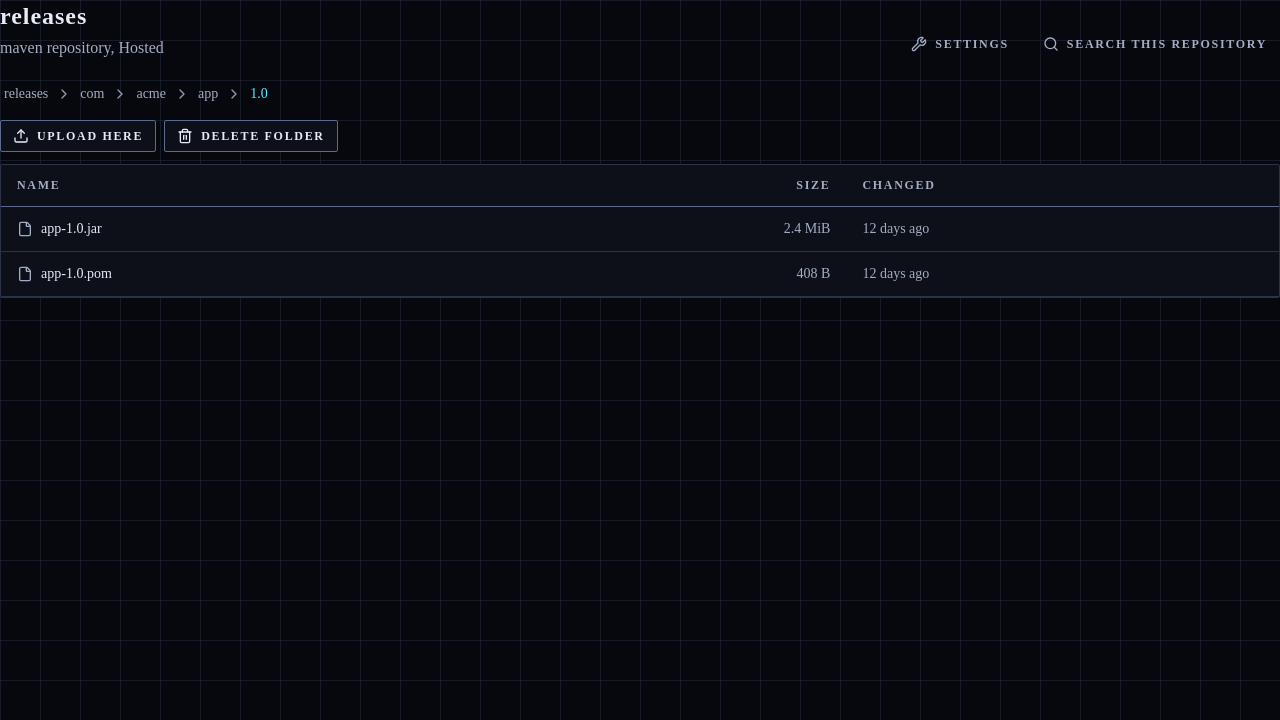
deleting › a folder says how many files the format kept, and stays where they are
Click the button "Delete folder" at (251, 136), box [164,120,338,152]
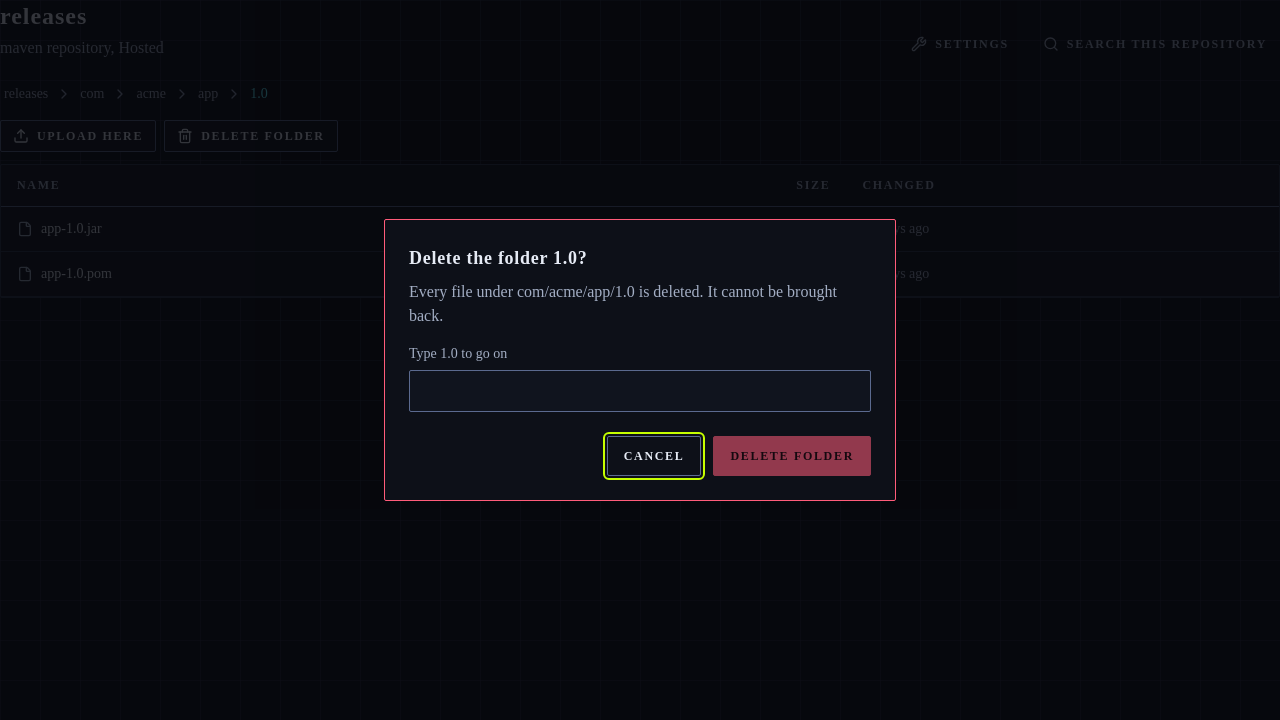
Type "1.0" into the field labelled "Type 1.0 to go on" at (640, 391), box [409,370,871,412]
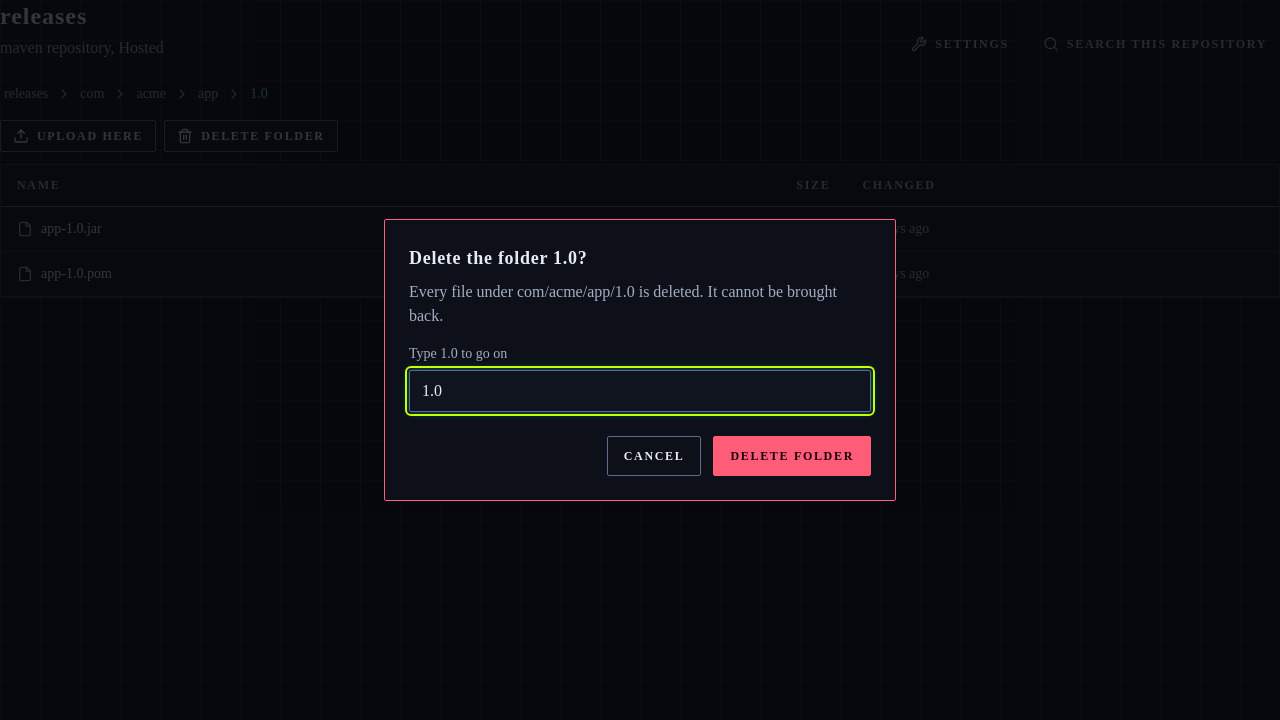
Click the button "Delete folder" at (792, 456), box [714,436,871,476]
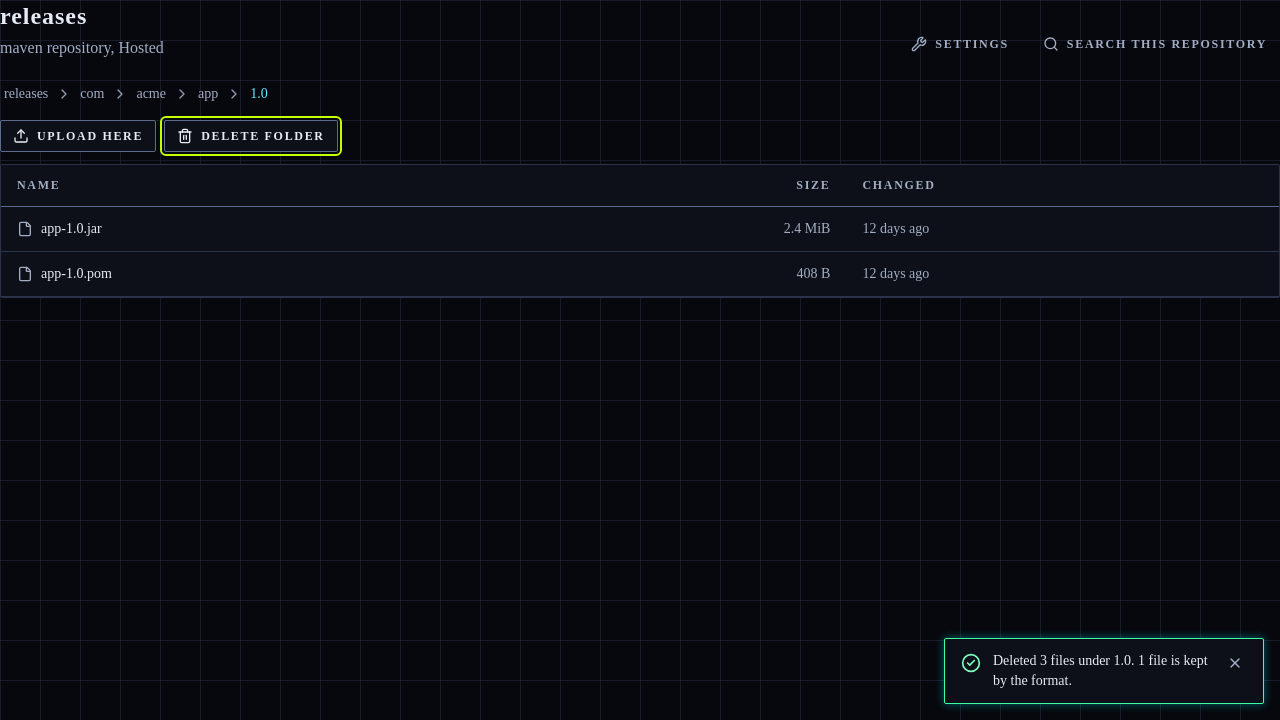
Now the element named "Notifications" reads "Deleted 3 files under 1.0. 1 file is kept by the format.", box [993,653,1208,688]
// Asked again, the name is typed again: the dialog is not left armed.
Click the button "Delete folder" at (251, 136), box [164,120,338,152]
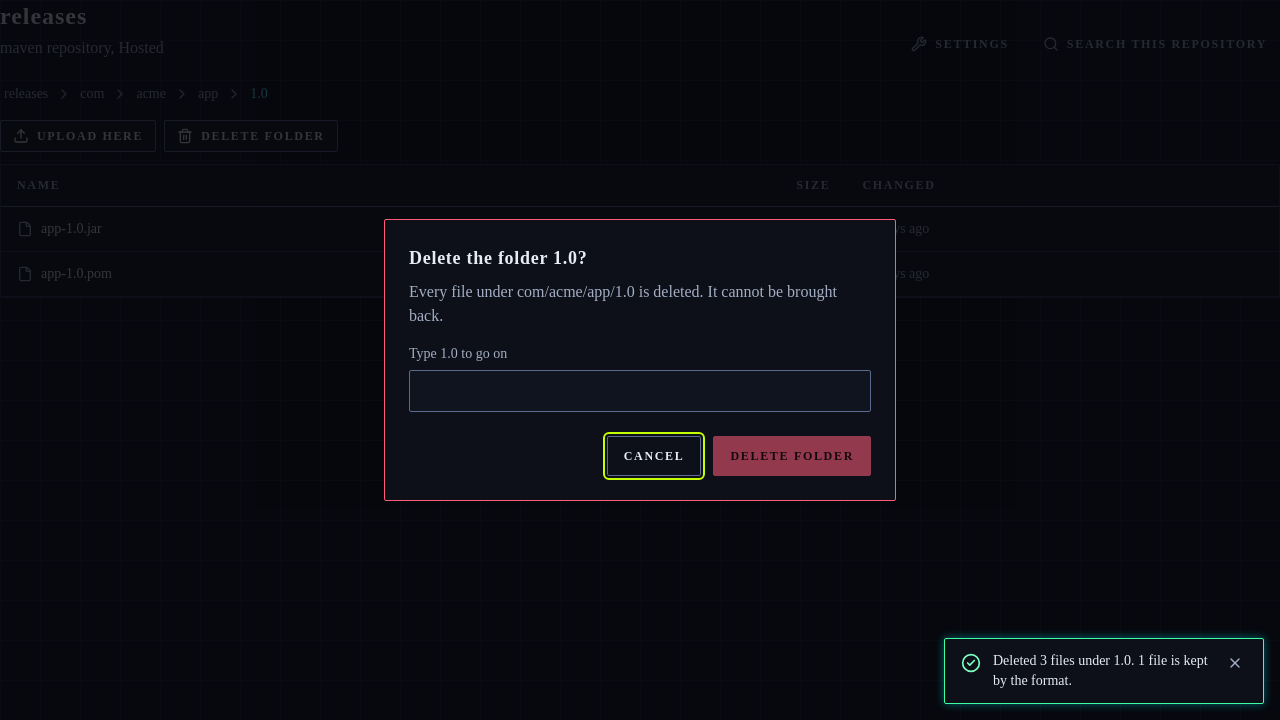
Expected: the field labelled "Type 1.0 to go on" is empty, [409,370,871,412]
Now the button "Delete folder" is disabled, box [714,436,871,476]
